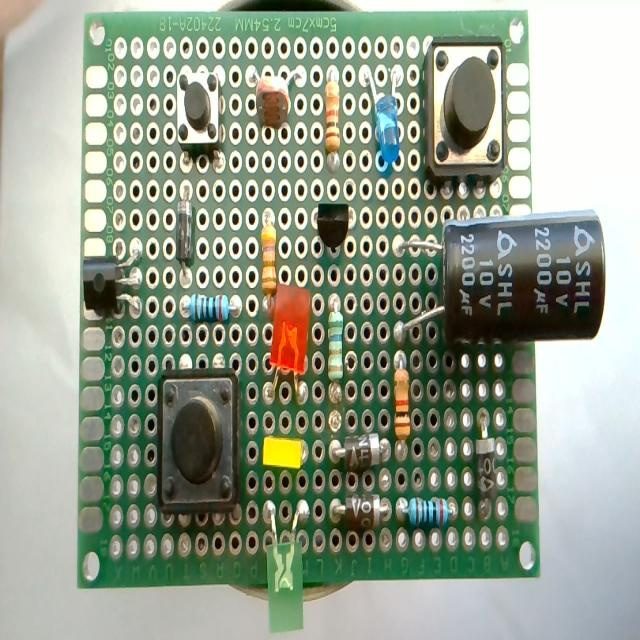Electrolytic capacitor: (384, 209, 608, 367)
cds: (243, 55, 307, 135)
diode: (173, 169, 203, 278), (477, 412, 501, 526), (330, 483, 390, 528), (332, 431, 389, 473)
led: (262, 488, 318, 640), (265, 281, 313, 401), (360, 62, 408, 174), (261, 411, 307, 482)
resistor: (314, 69, 348, 185), (386, 345, 416, 458), (186, 281, 248, 335), (320, 295, 348, 413), (396, 493, 460, 542), (259, 207, 281, 301)
switch: (420, 24, 512, 184), (155, 367, 243, 518), (171, 68, 227, 175)
transistor: (79, 234, 149, 330), (298, 191, 364, 266)
